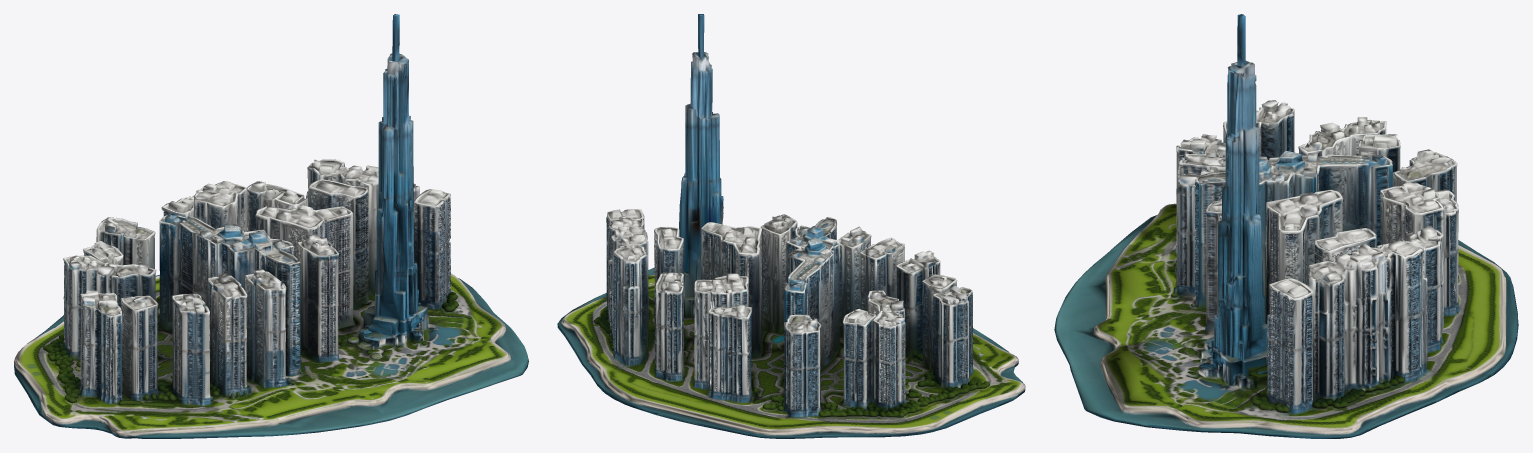
Rendered from landmark-81.glb.
3 renders of one model, left to right at view 1: azimuth 30°, elevation 25°; view 2: azimuth 150°, elevation 25°; view 3: azimuth 270°, elevation 25°, orthographic. The views are drawn at different scales.
Parts seen in each view (by area): view 1: world; view 2: world; view 3: world.
Boxes of the visible parts, x1=… form: world: x1=14, y1=14, x2=528, y2=438; world: x1=557, y1=14, x2=1025, y2=438; world: x1=1054, y1=14, x2=1518, y2=438.
Bounding box in the file's own units: 687 × 472 × 539.
Materials: 1 (1 with a texture image).
